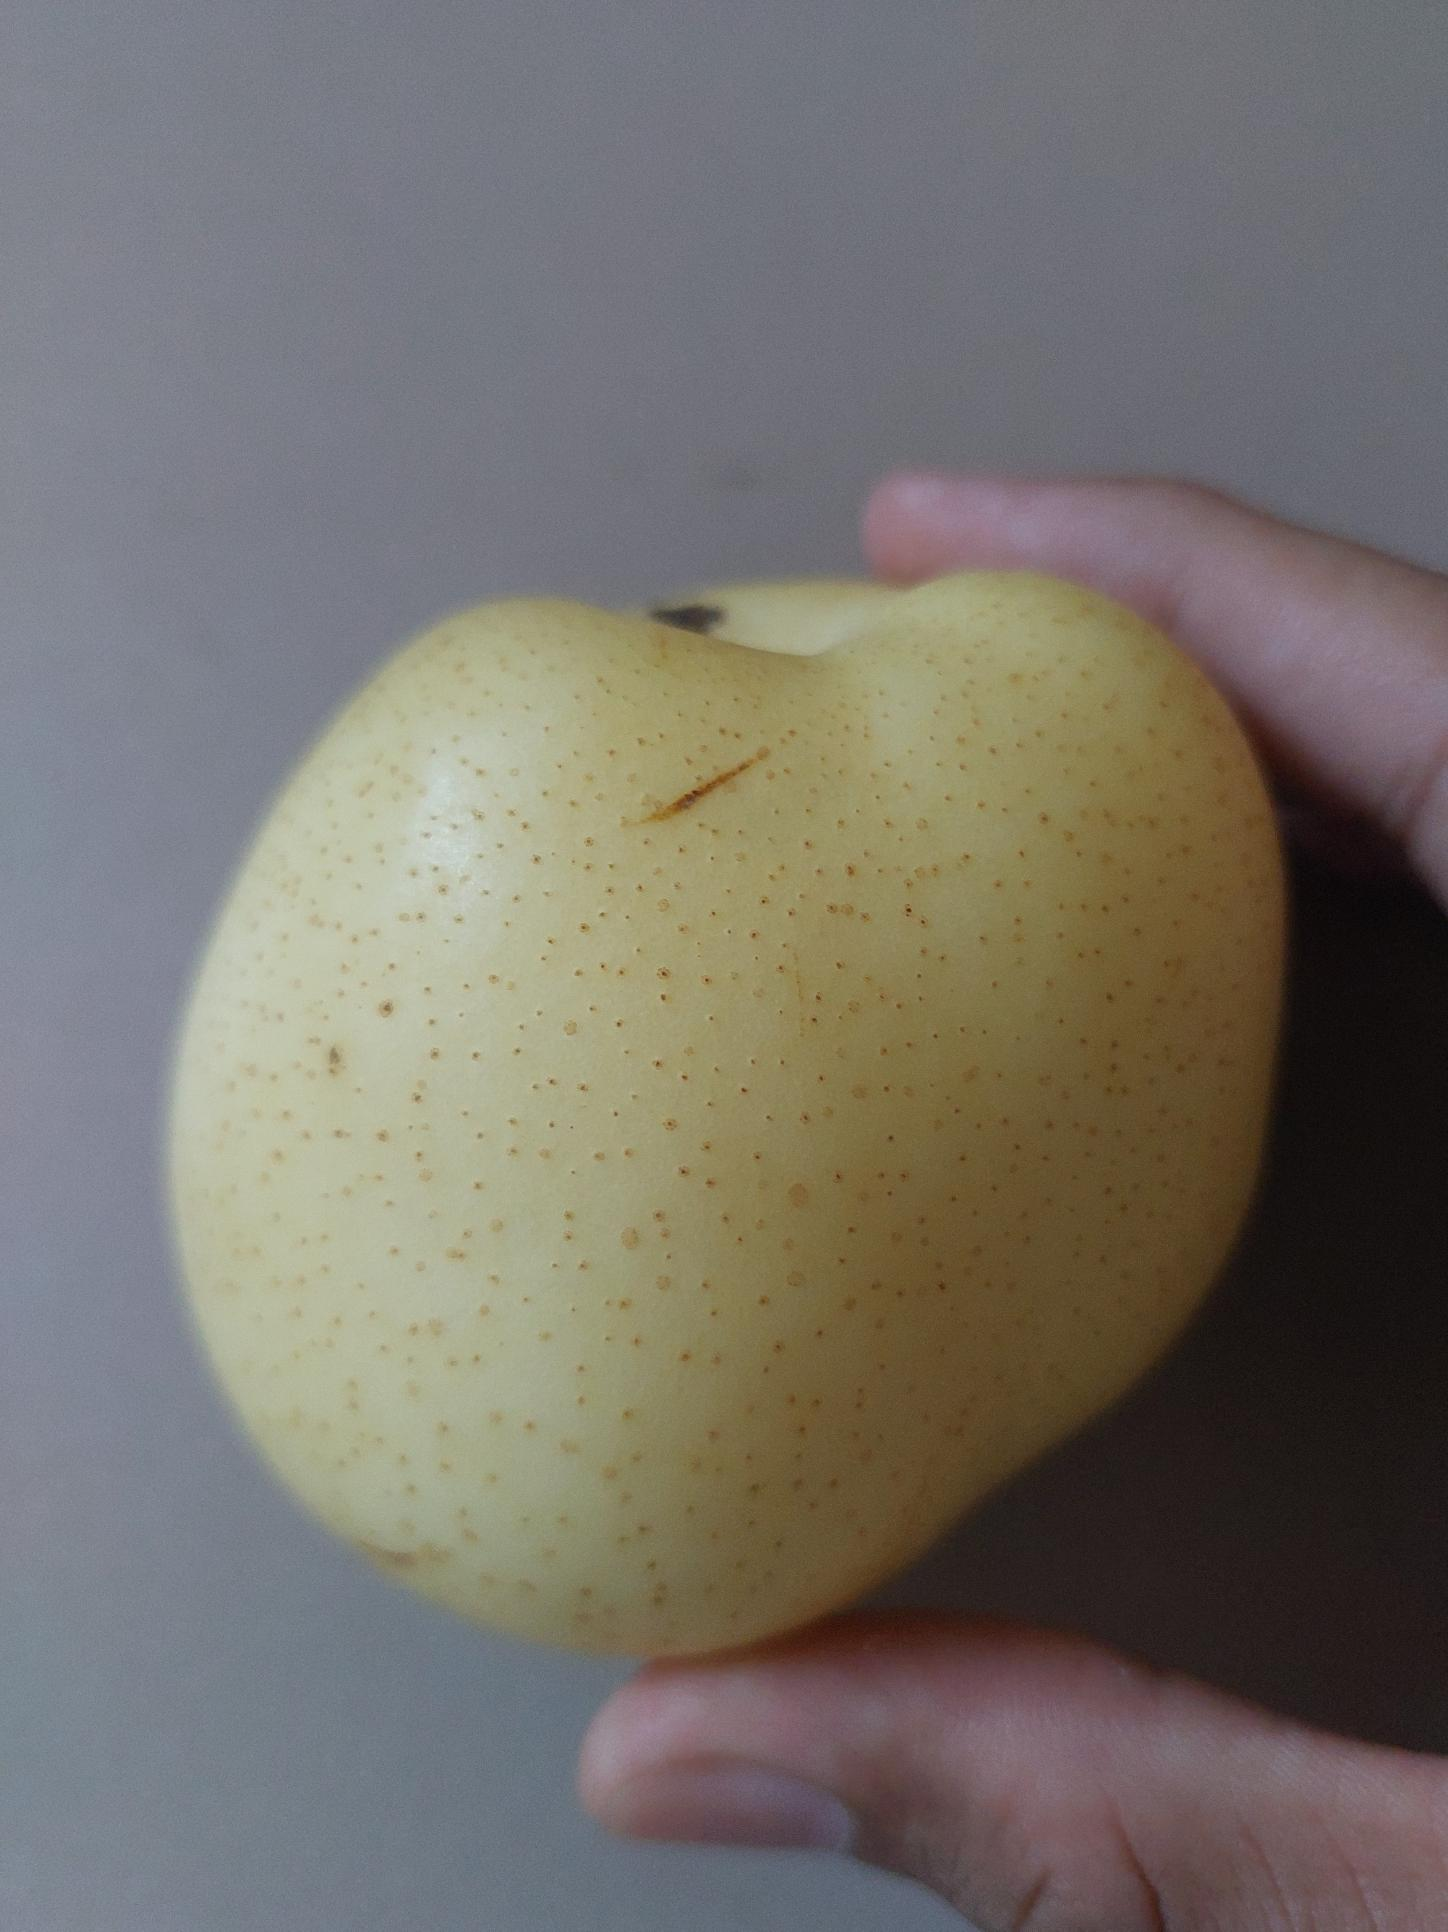Good Pear: (145, 555, 1285, 1666)
